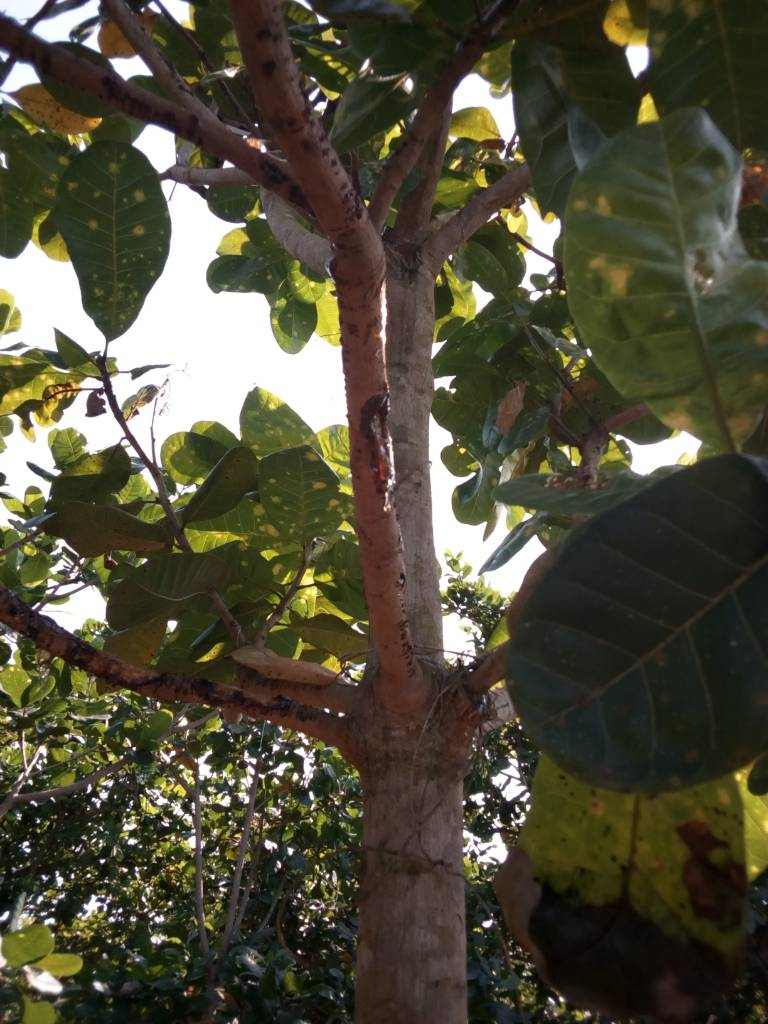Gommose: (94, 672, 313, 728), (360, 386, 400, 502)
